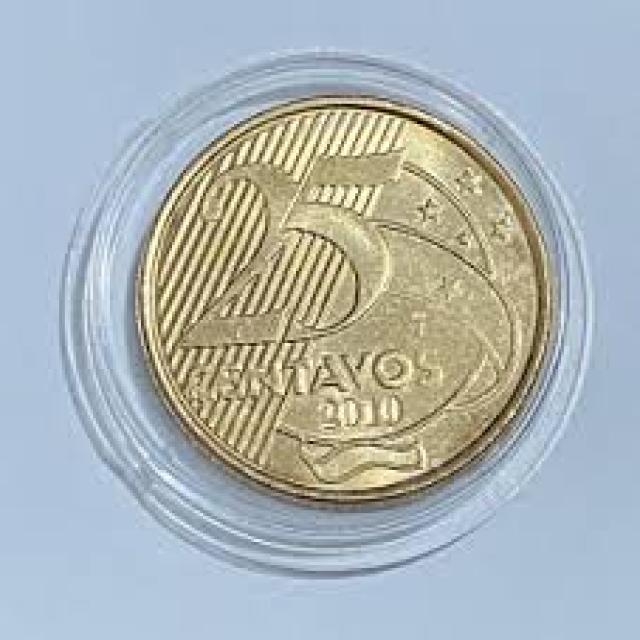25 cent: (141, 92, 555, 484)
